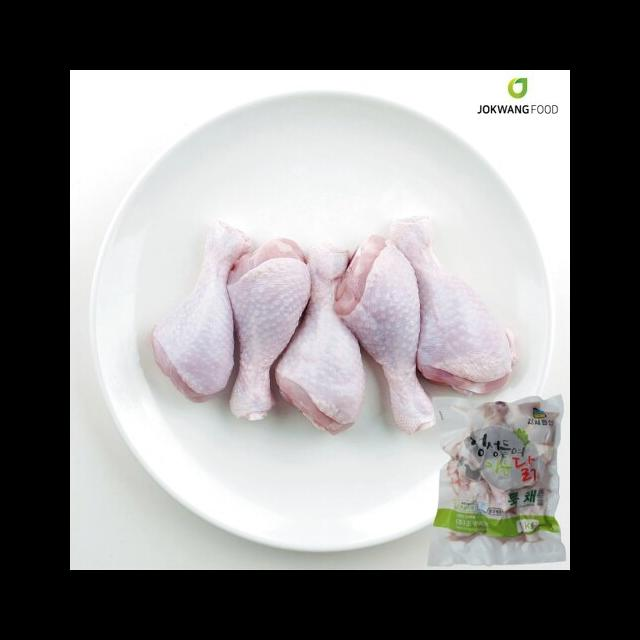chicken: (386, 213, 516, 396), (333, 233, 438, 437), (148, 219, 251, 402), (274, 244, 366, 436), (225, 236, 312, 424)
